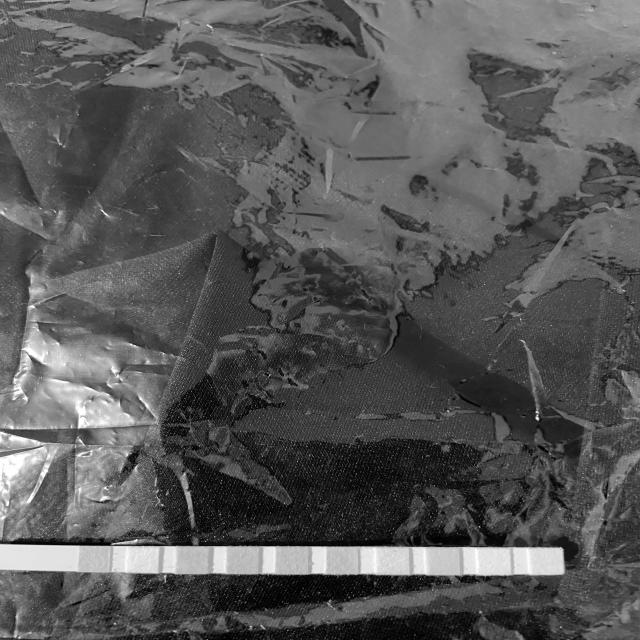Bilirubin: (128, 546, 158, 572)
Blood: (276, 546, 308, 575)
Glucose: (80, 546, 110, 572)
Ketone: (176, 546, 208, 574)
Leukocytes: (528, 548, 563, 575)
Nitrite: (476, 548, 511, 574)
Protein: (375, 547, 408, 574)
SpGravity: (227, 547, 258, 574)
Urobilinogen: (426, 547, 460, 575)
background: (0, 0, 640, 640)
pH: (326, 546, 360, 574)
strip: (1, 544, 565, 574)
